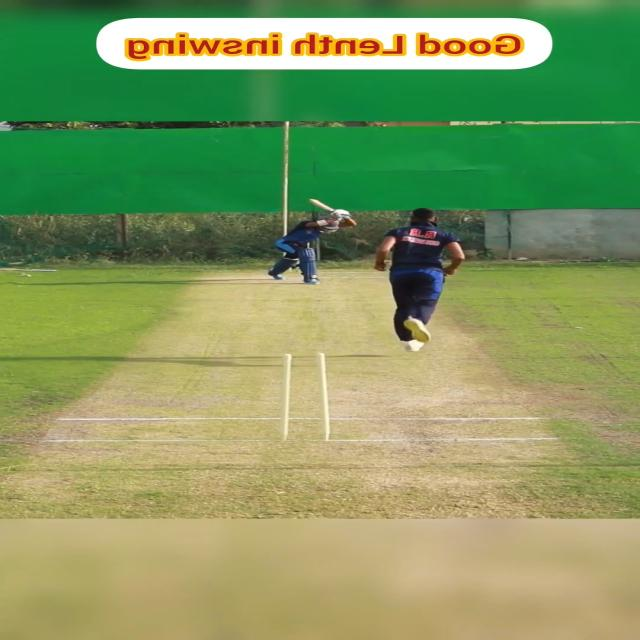stump: (278, 352, 335, 441)
